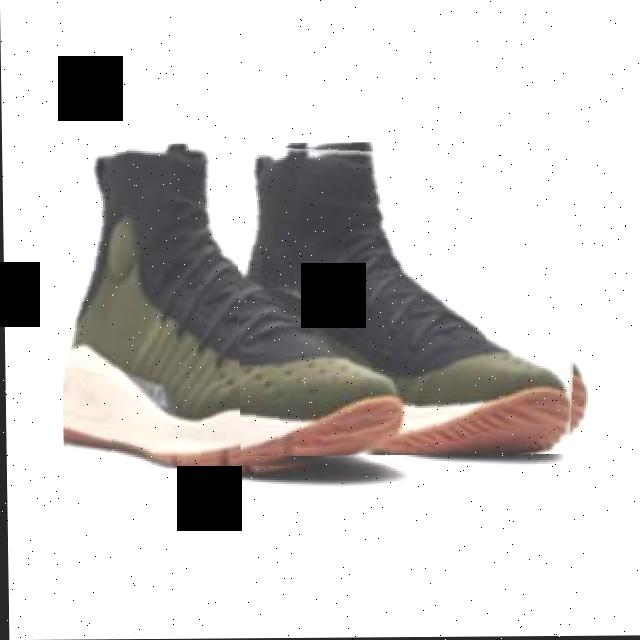shoe: (59, 143, 423, 473), (236, 145, 587, 457)
